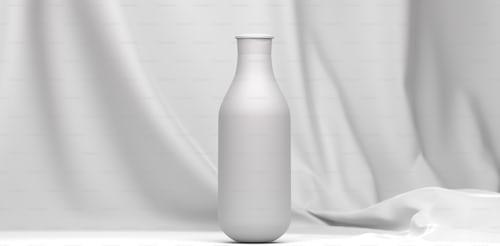Bottle: (210, 27, 303, 245)
